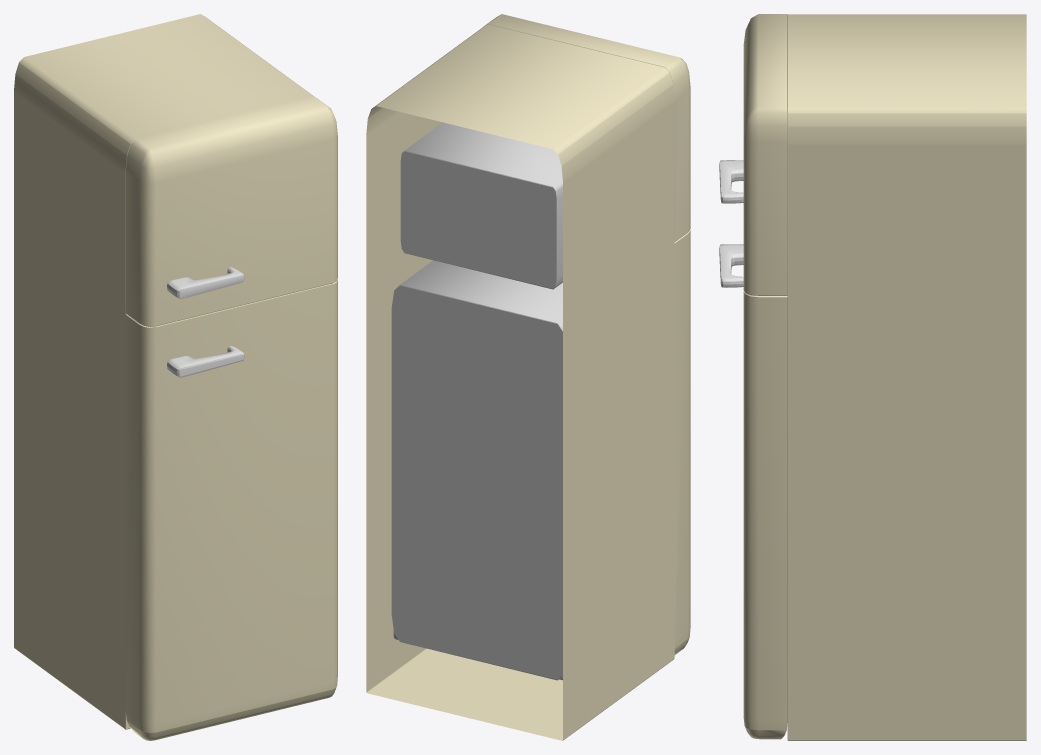
The model's file is refrigerator.fbx.
The picture shows the model from 3 angles, left to right: view 1: azimuth 30°, elevation 25°; view 2: azimuth 150°, elevation 25°; view 3: azimuth 270°, elevation 25°; orthographic projection. The views are drawn at different scales.
Parts seen in each view (by area): view 1: door.001, body, door; view 2: body, door.001, door; view 3: body, door.001, door.
Part boxes in pixels (x1,y1,x2,y2): door.001: (125, 279, 337, 740); body: (14, 14, 314, 729); door: (126, 95, 337, 326); body: (366, 24, 674, 740); door.001: (674, 230, 690, 654); door: (483, 14, 690, 241); body: (787, 14, 1026, 740); door.001: (719, 244, 787, 739); door: (719, 14, 787, 295).
Bounding box in the file's own units: 48.99 × 141 × 62.1.
